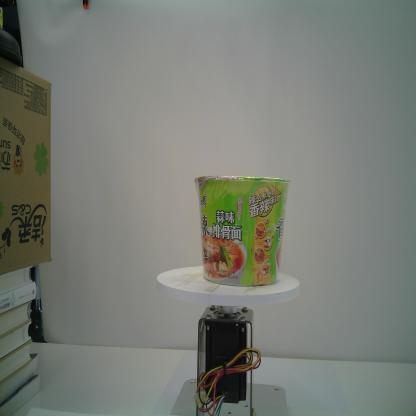Instant Noodles: (194, 174, 291, 287)
